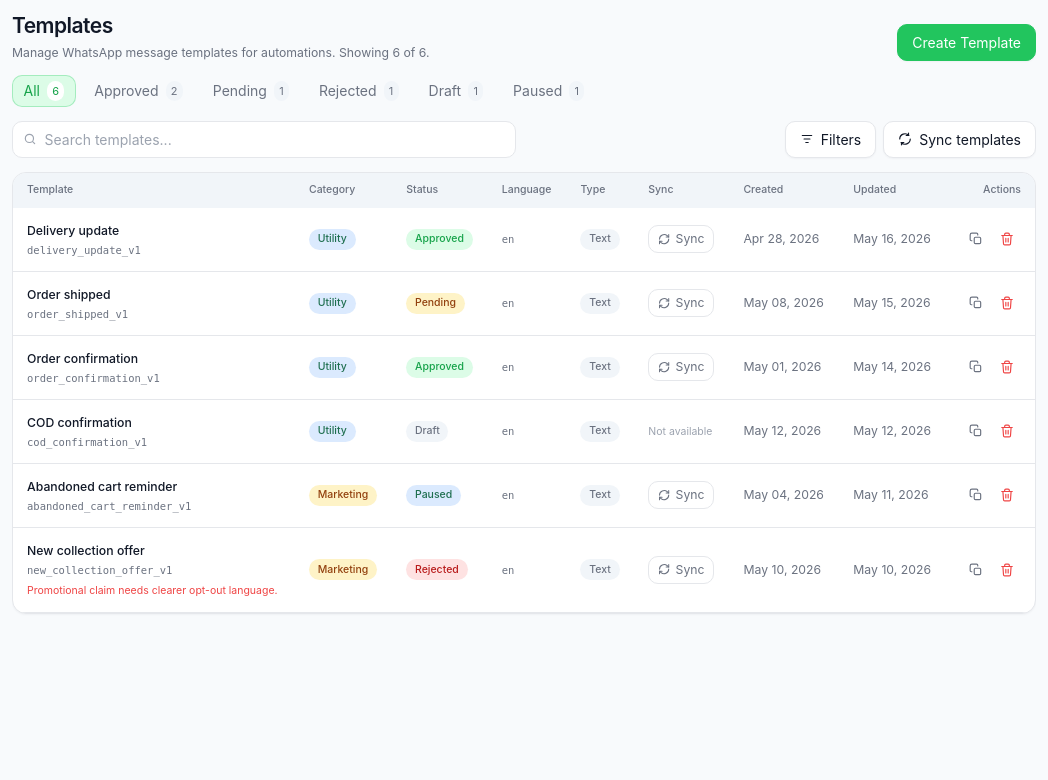
Test: opens advanced filters and filters by category
Click the button "Filters". click: (830, 139)
box: [785,120,876,158]
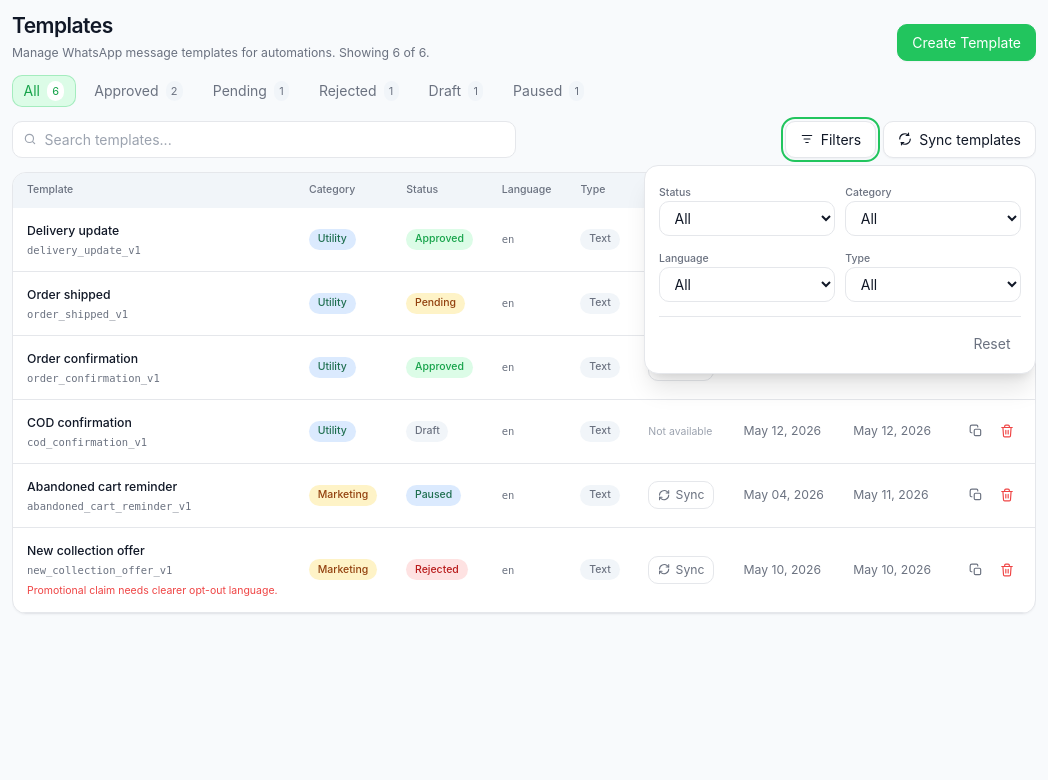
Select "Marketing" in the dropdown labelled "Category". click: (933, 218)
box: [845,200,1021,236]
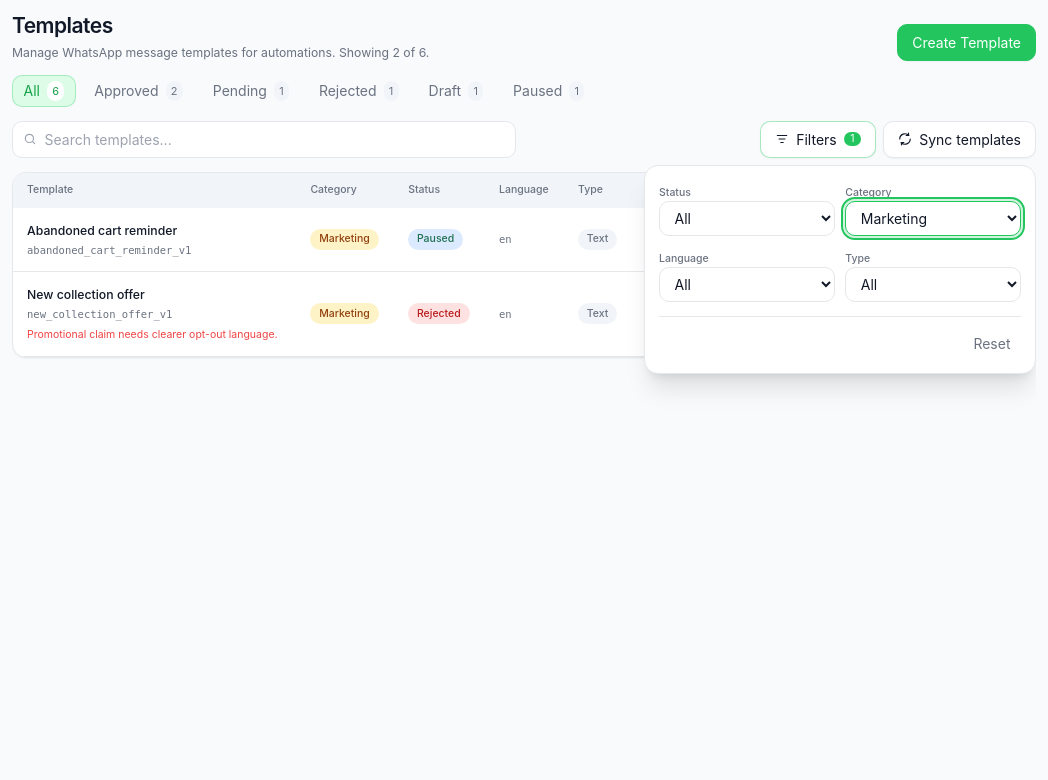
Check: the text "Abandoned cart reminder" is shown 2 times
Check: the text "Order confirmation" is gone
